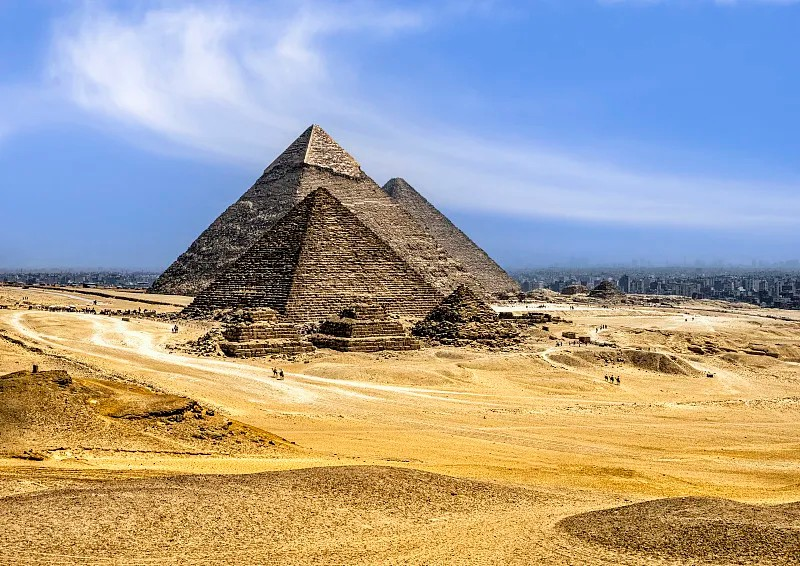Pyramid: (147, 125, 503, 302), (177, 189, 445, 323), (381, 177, 525, 292), (413, 287, 521, 345), (310, 302, 419, 352), (211, 308, 313, 355)
